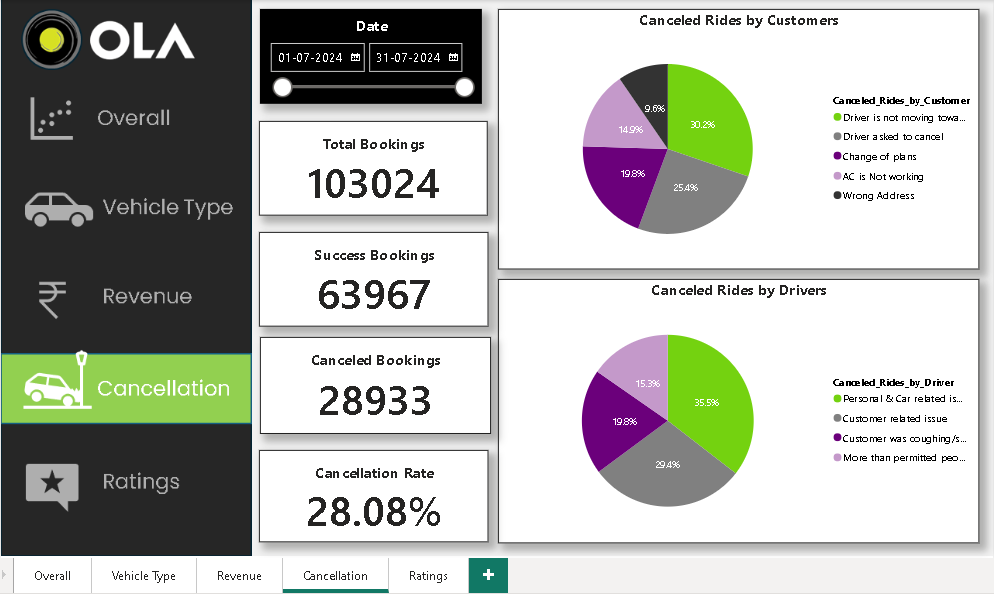

What the dashboard file says about the page in this screenshot:
{"tool":"powerbi","page":{"name":"Cancellation","canvas":[1280,720],"ordinal":3},"visuals":[{"type":"actionButton","box":[0,216.9,324.6,90.7],"z":0},{"type":"actionButton","box":[0,334.5,324.6,90.7],"z":1000},{"type":"actionButton","box":[0,581.1,324.6,90.7],"z":2000},{"type":"actionButton","box":[0,103.5,324.6,90.7],"z":3000},{"type":"pieChart","title":"Canceled Rides by Customers","fields":{"Category":["Bookings-100000-Rows.Canceled_Rides_by_Customer"],"Y":["CountNonNull(Bookings-100000-Rows.Canceled_Rides_by_Customer)"]},"box":[640.8,12.1,621.2,336.2],"z":4000},{"type":"pieChart","title":"Canceled Rides by Drivers","fields":{"Category":["Bookings-100000-Rows.Canceled_Rides_by_Driver"],"Y":["CountNonNull(Bookings-100000-Rows.Canceled_Rides_by_Driver)"]},"box":[640.8,360.3,621.2,340.7],"z":5000},{"type":"slicer","title":"Date","fields":{"Values":["Bookings-100000-Rows.Date"]},"box":[334.7,12.1,286.5,122.1],"z":6000},{"type":"card","title":"Total Bookings","fields":{"Values":["CountNonNull(Bookings-100000-Rows.Booking_Status)"]},"box":[333.1,155.9,294.8,121.9],"z":7000},{"type":"card","title":"Success Bookings","fields":{"Values":["CountNonNull(Bookings-100000-Rows.Booking_Status)"]},"box":[333.1,299.1,296.2,121.9],"z":8000},{"type":"card","title":"Canceled Bookings","fields":{"Values":["CountNonNull(Bookings-100000-Rows.Booking_Status)"]},"box":[334.5,435.1,297.6,124.7],"z":9000},{"type":"card","title":"Cancellation Rate","fields":{"Values":["Bookings.Canceled_Booking_Percentage"]},"box":[333.1,581.1,296.2,119.1],"z":10000}]}

Visuals, with their boxes on the page's 1280x720 design canvas (x1, y1, x2, y2). These are canvas units, not pixel positions in the 994x594 screenshot, which may show the page scaled, cropped or inside an application window:
actionButton: 0:217:325:308
actionButton: 0:334:325:425
actionButton: 0:581:325:672
actionButton: 0:104:325:194
"Canceled Rides by Customers" pieChart: 641:12:1262:348
"Canceled Rides by Drivers" pieChart: 641:360:1262:701
"Date" slicer: 335:12:621:134
"Total Bookings" card: 333:156:628:278
"Success Bookings" card: 333:299:629:421
"Canceled Bookings" card: 334:435:632:560
"Cancellation Rate" card: 333:581:629:700
